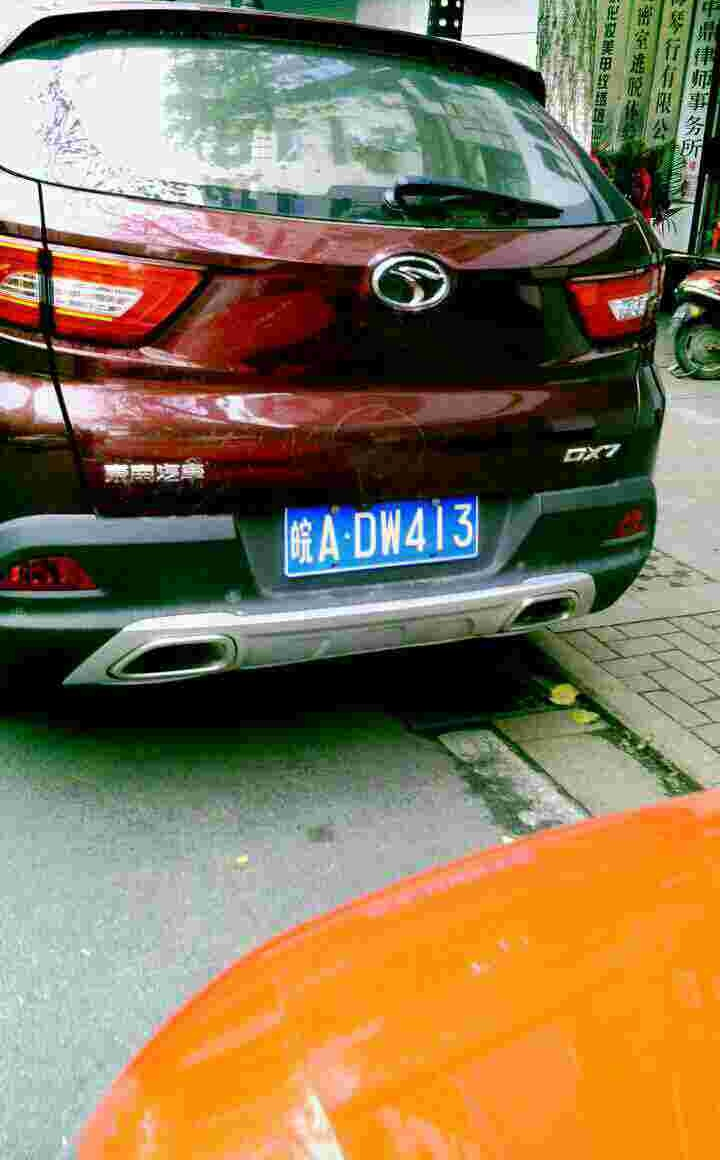plate: (289, 485, 485, 579)
